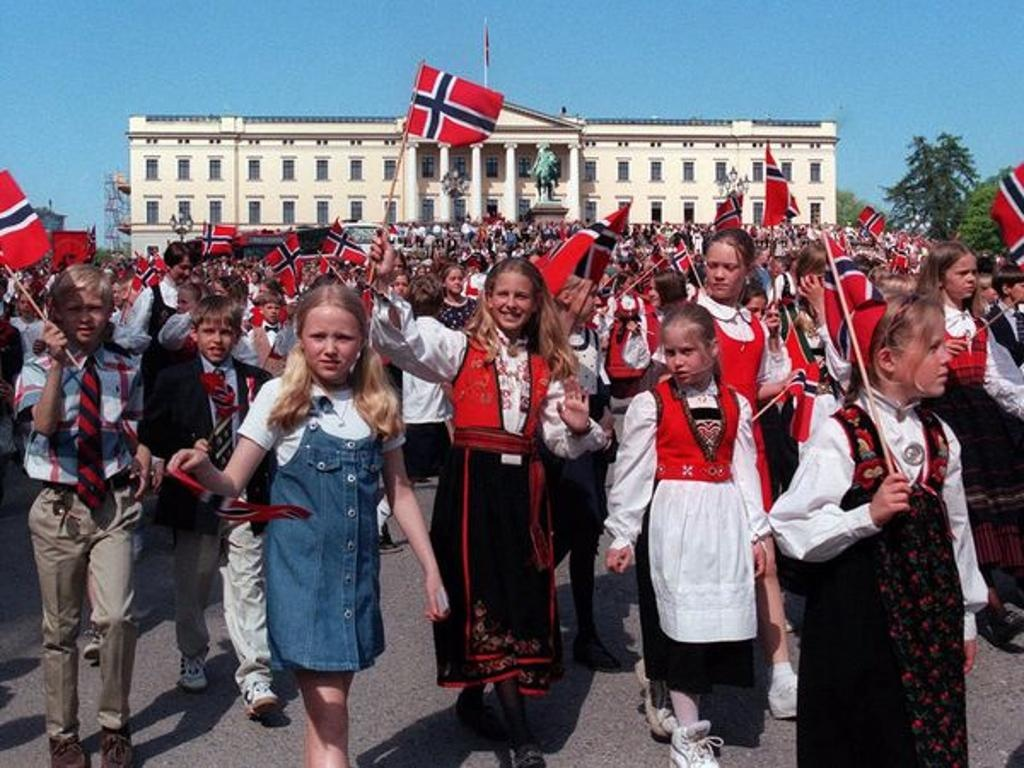human_face: (895, 312, 951, 398), (302, 306, 364, 382), (62, 286, 106, 346), (492, 272, 536, 330), (664, 328, 708, 384), (705, 242, 743, 298), (196, 312, 236, 364), (569, 272, 601, 322), (944, 252, 976, 296), (743, 294, 767, 330), (176, 286, 196, 320), (171, 252, 193, 282), (213, 280, 235, 306), (444, 266, 464, 294), (646, 278, 666, 306), (262, 298, 282, 324), (981, 279, 1001, 305), (21, 292, 39, 316), (1006, 278, 1024, 302), (110, 280, 126, 306), (390, 277, 408, 299), (388, 256, 404, 276), (258, 284, 272, 300), (624, 274, 634, 292), (301, 270, 311, 284), (250, 270, 260, 282), (416, 267, 426, 277)
